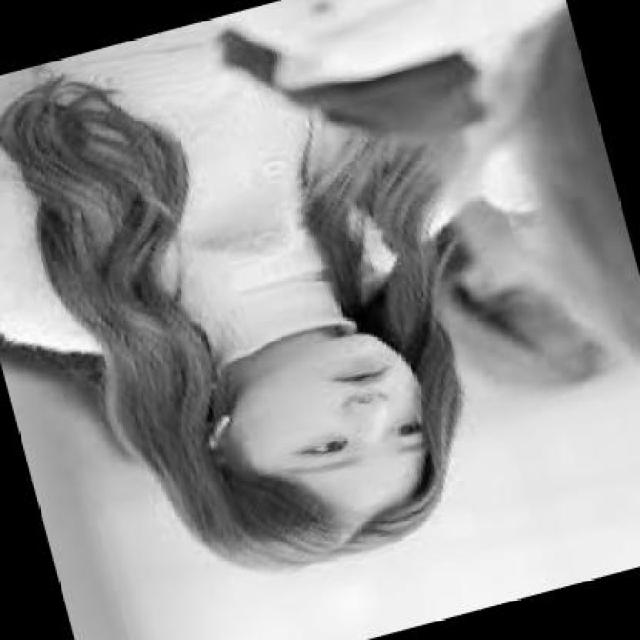earphone: (193, 402, 245, 466)
